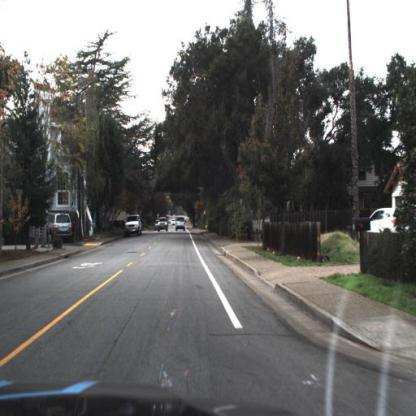car: (362, 207, 407, 239), (47, 210, 75, 246), (124, 213, 144, 236), (174, 216, 188, 233), (159, 218, 170, 234)
